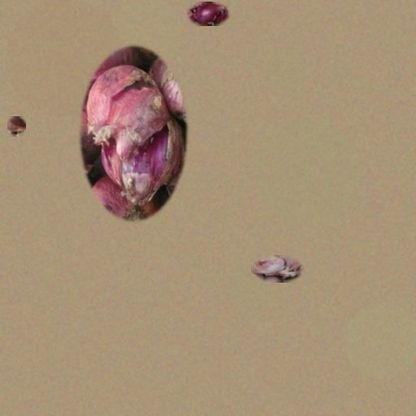damaged: (77, 41, 190, 226)
healthy: (187, 2, 230, 26)
sprouted: (251, 255, 304, 283), (7, 116, 26, 136)
